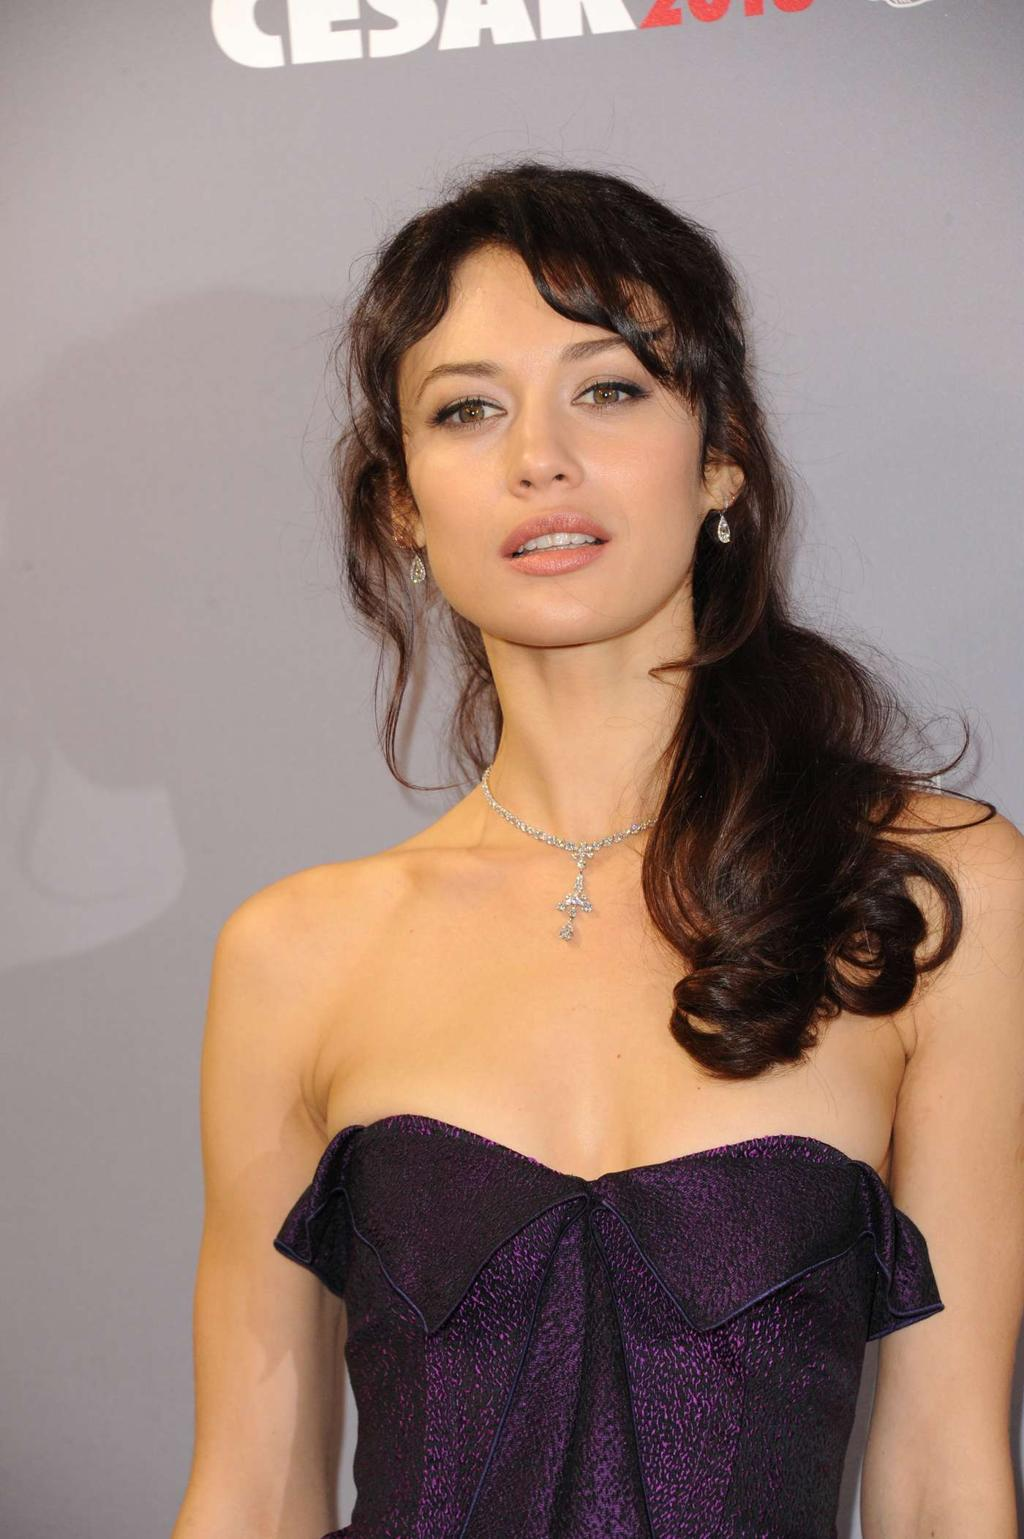face: (396, 225, 702, 639)
